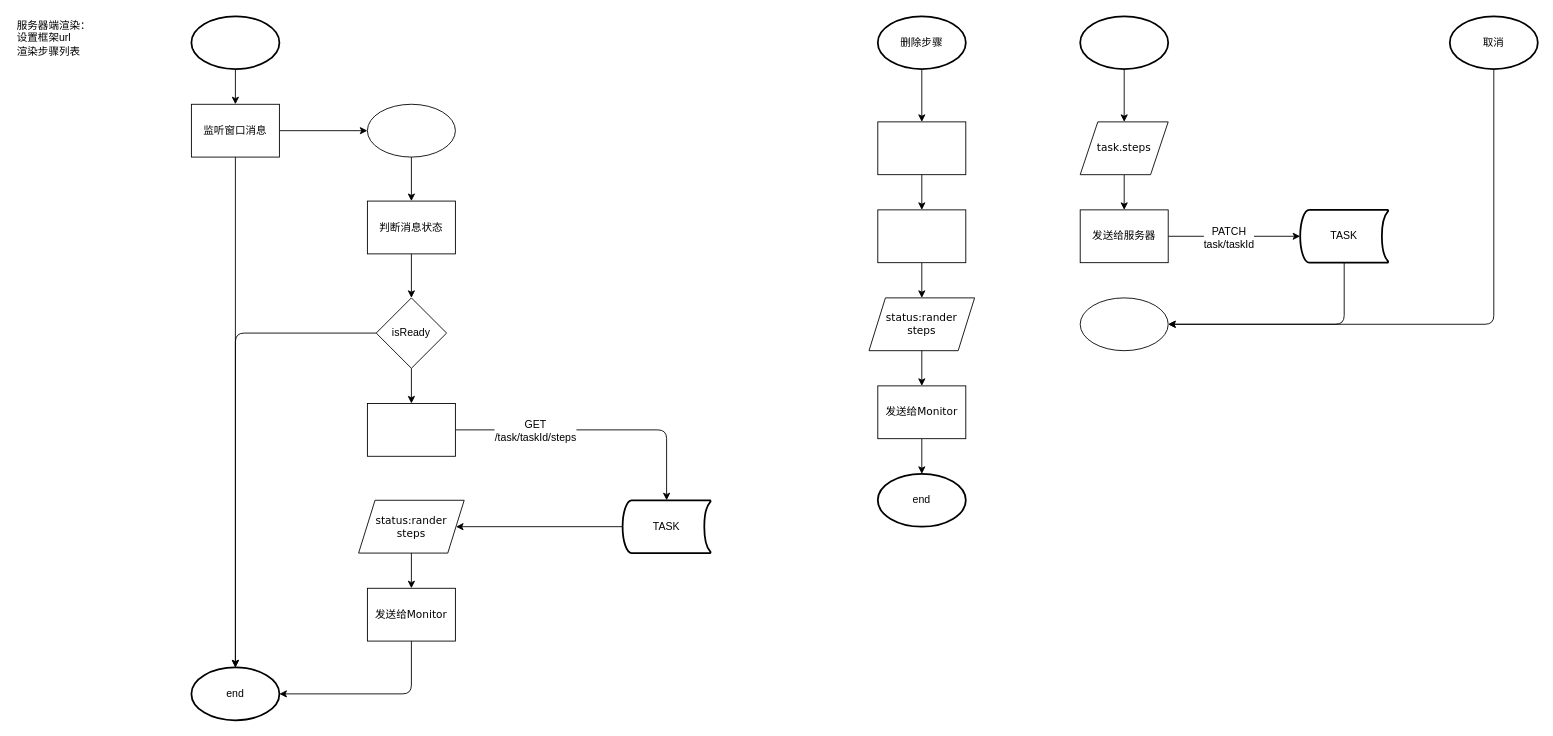
Image size: 1553x736. Some labels were removed from this diagram. The shapes that lost their labels are listed below. From the top down, each one's centre as x and y in pixels, then its label:
At [235,42]: "start".
At [1124,42]: "保存".
At [411,130]: "收到窗口消息".
At [921,148]: "删除task.steps当前步骤".
At [921,236]: "在步骤列表中删除当前项".
At [1123,324]: "重定向到 tasks页面".
At [411,429]: "获取当前任务数据".
